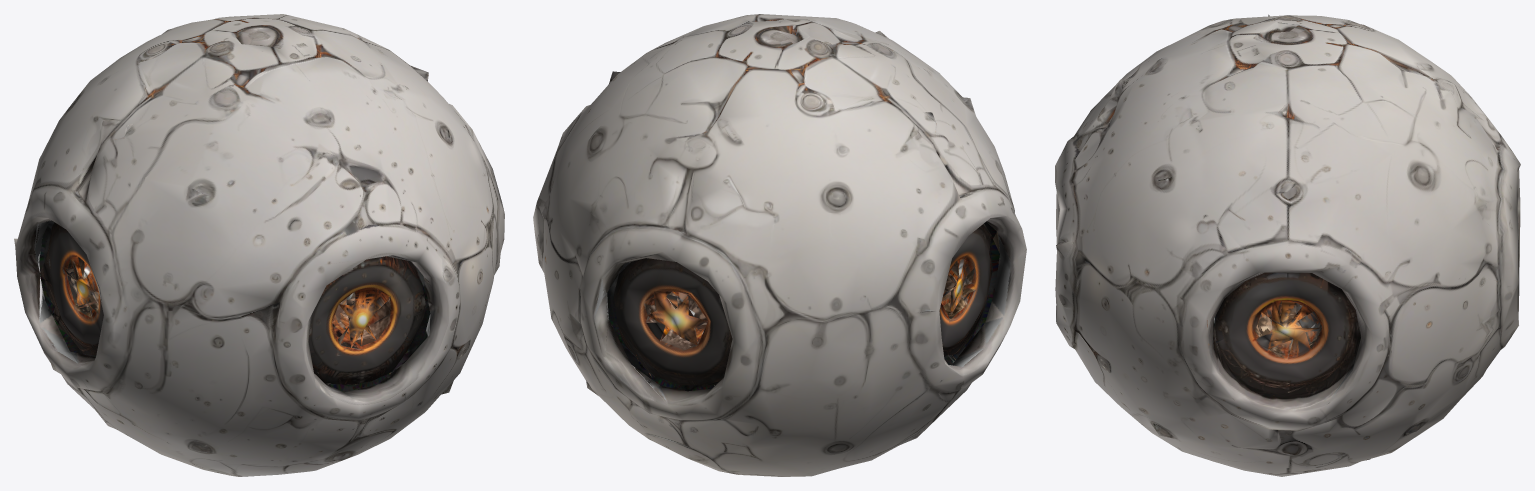
File: robo.obj
3 views of the same model, side by side, from view 1: azimuth 30°, elevation 25°; view 2: azimuth 150°, elevation 25°; view 3: azimuth 270°, elevation 25° (orthographic).
Visible parts, largest first — view 1: robo; view 2: robo; view 3: robo.
Part boxes in pixels (x1,y1,x2,y2): robo: (14,14,504,476); robo: (533,14,1026,476); robo: (1055,14,1520,476).
Bounding box in the file's own units: 2.02 × 2.01 × 2.01.
